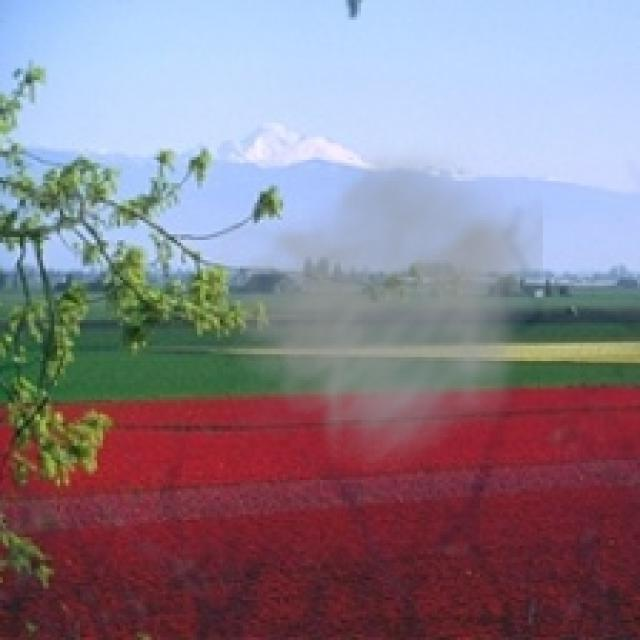Smoke: (197, 137, 543, 483)
